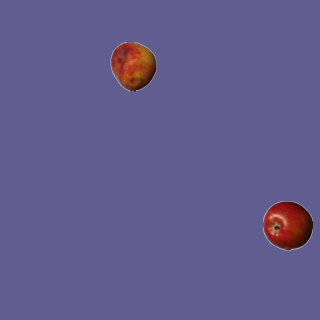Apple Braeburn: (262, 200, 312, 250)
Peach: (108, 41, 158, 91)
